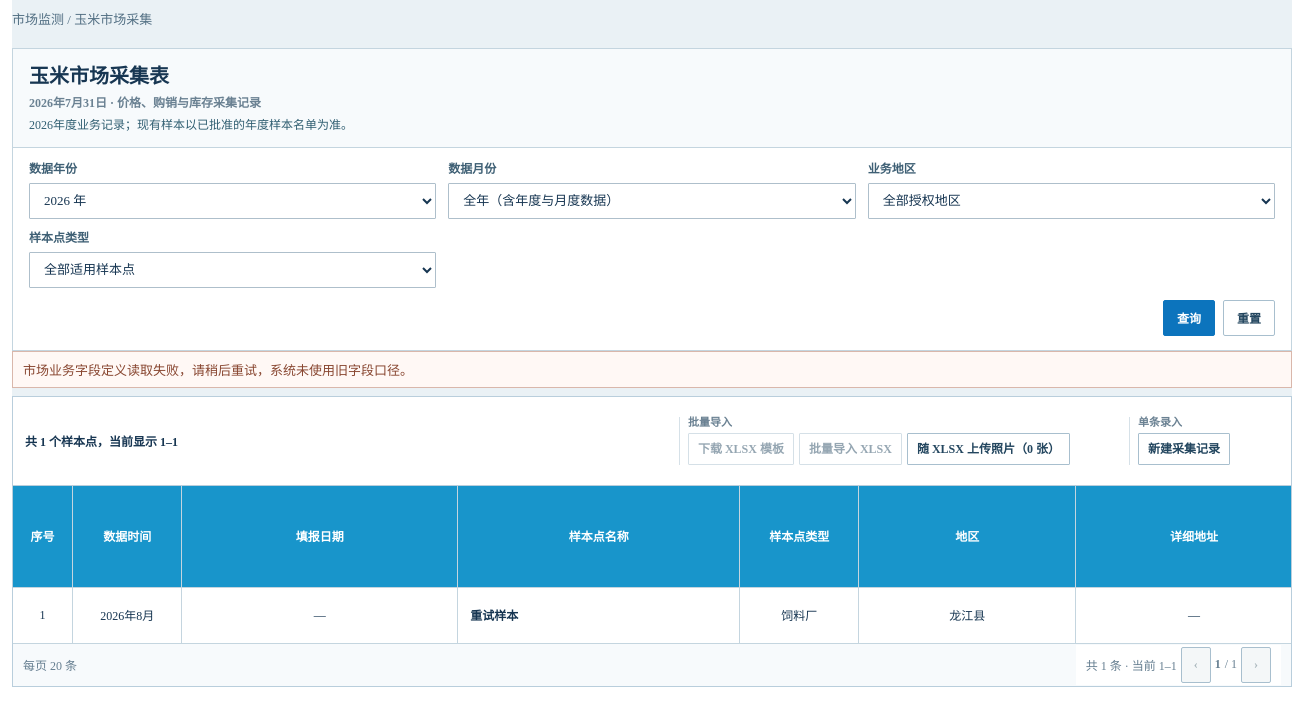
Test case: product market collection workspace › clears a transient field-definition error after a successful retry
The width and height of the screenshot is (1292, 720).
Check: the text "市场业务字段定义读取失败，请稍后重试，系统未使用旧字段口径。" is shown, box [12,351,1291,388]
Select "饲料厂" in the dropdown labelled "样本点类型": (233, 270) [29,252,436,288]
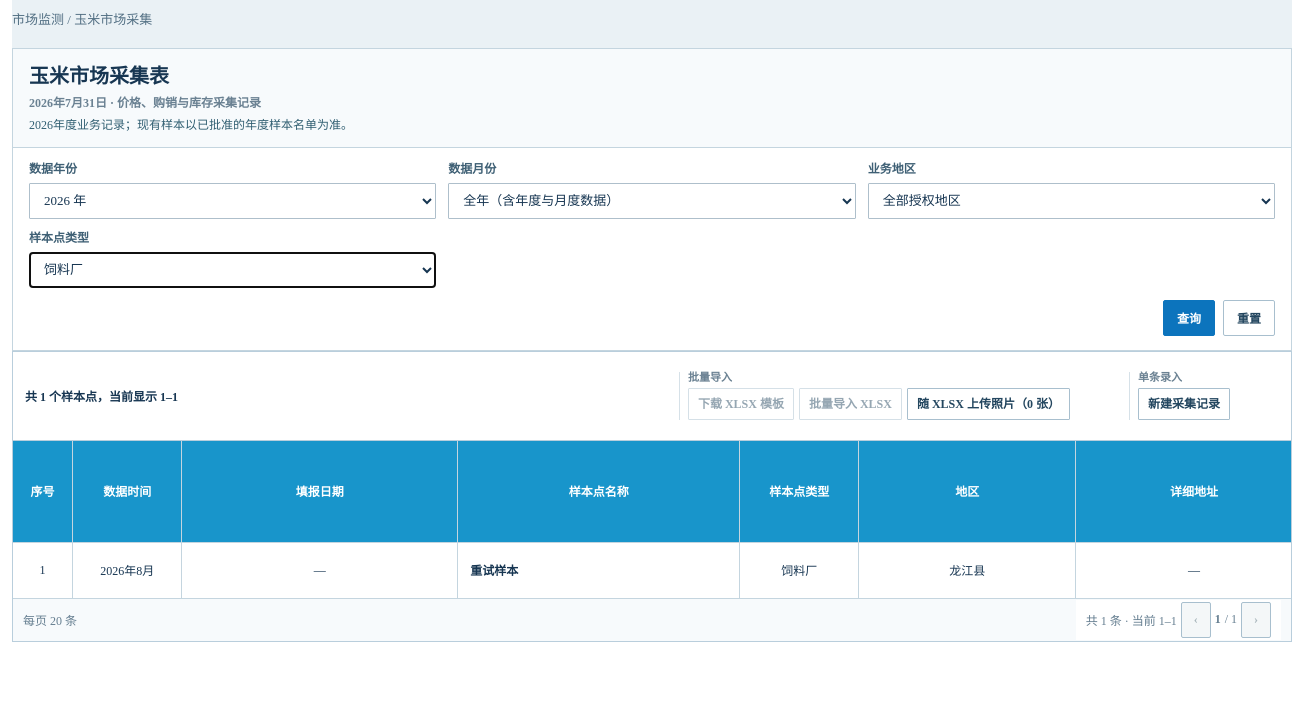
Check: the text "市场业务字段定义读取失败" is gone
